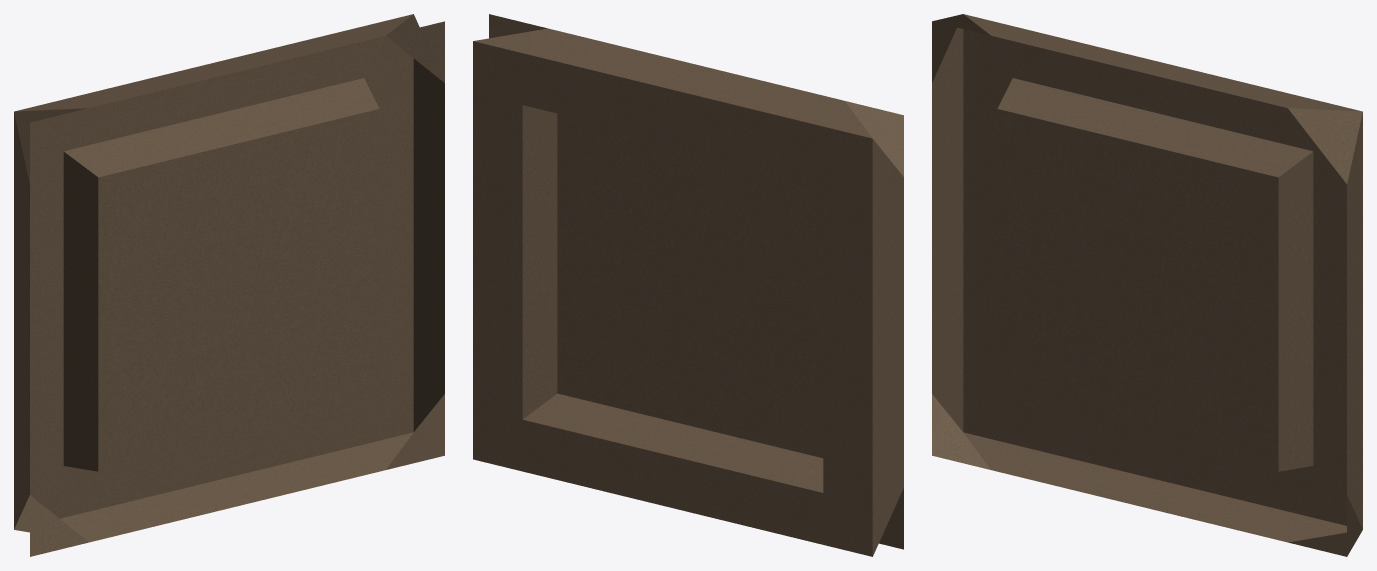
The model's file is desert_land_3.FBX.
3 views of the same model, side by side, from view 1: azimuth 30°, elevation 25°; view 2: azimuth 150°, elevation 25°; view 3: azimuth 330°, elevation 25° (orthographic).
Parts seen in each view (by area): view 1: Plane.002; view 2: Plane.002; view 3: Plane.002.
Part boxes in pixels (bbox=[...]): Plane.002: bbox=[14, 14, 444, 556]; Plane.002: bbox=[473, 14, 903, 556]; Plane.002: bbox=[932, 14, 1362, 556].
Size of the model in its own units: 2355 by 2355 by 247.
